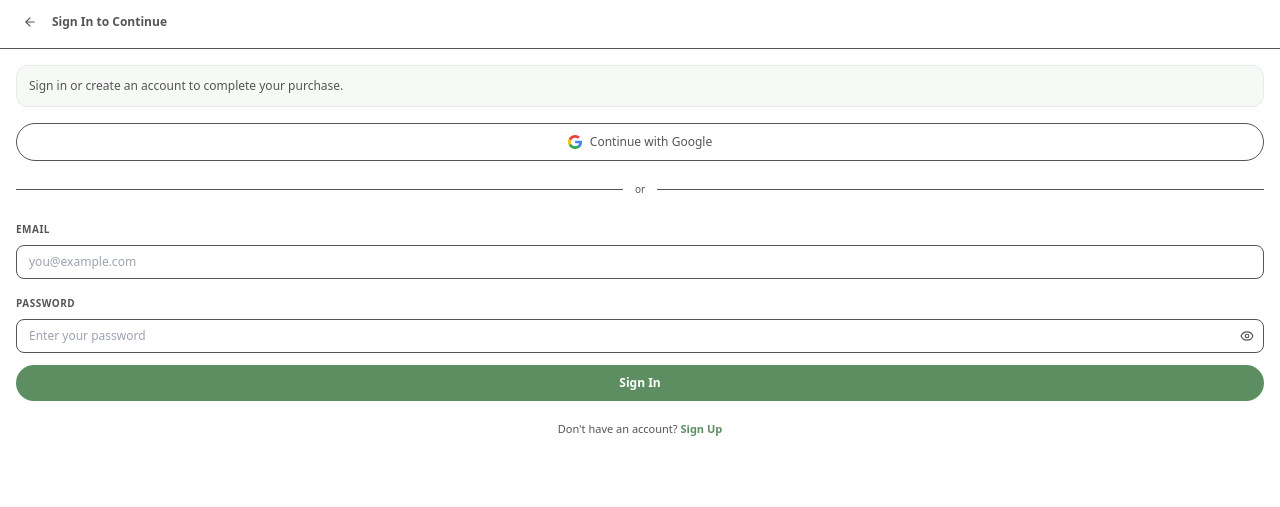
Scenario: ChatAuth › Sign In Mode › shows error on failed sign in
In the field with placeholder "you@example.com": {"x": 640, "y": 262} [16, 245, 1264, 279], type "test@test.com"
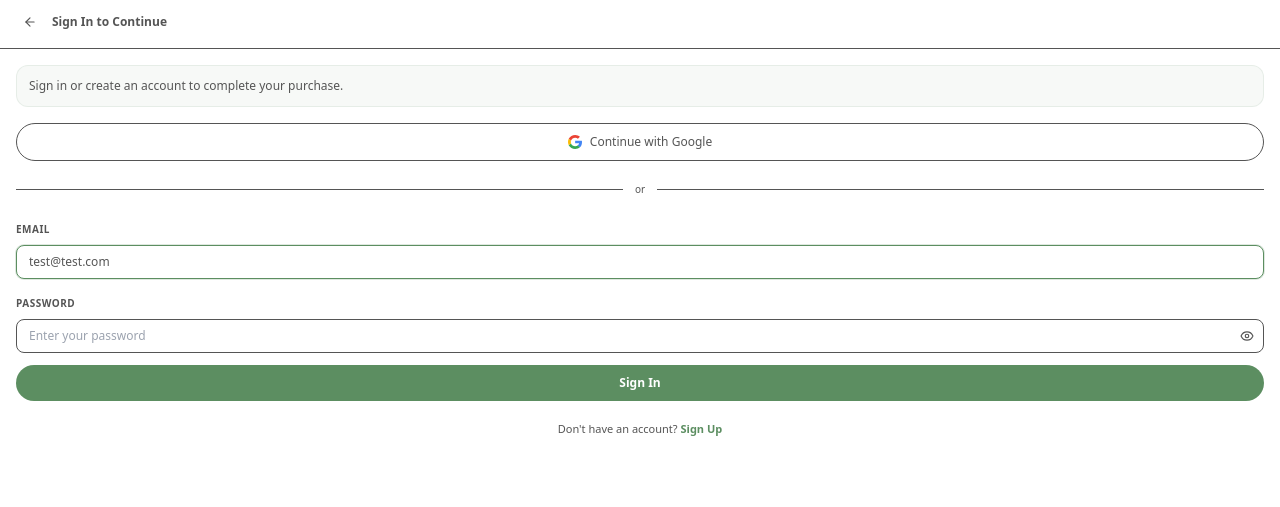
In the password field with placeholder "Enter your password": {"x": 640, "y": 336} [16, 319, 1264, 353], type "wrongpass"
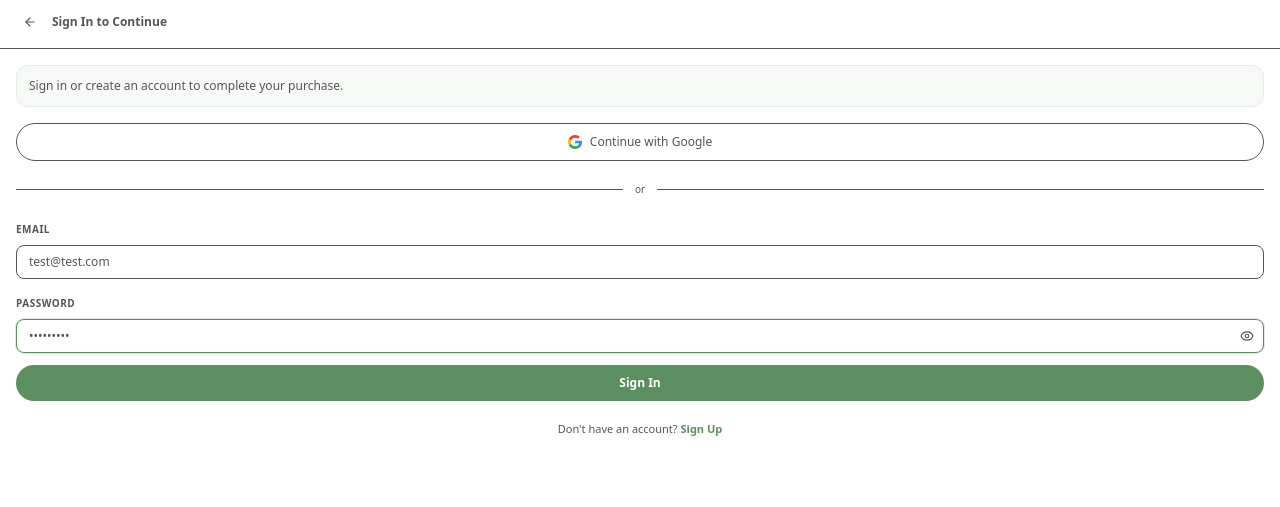
Click the button "Sign In": {"x": 640, "y": 383} [16, 365, 1264, 401]
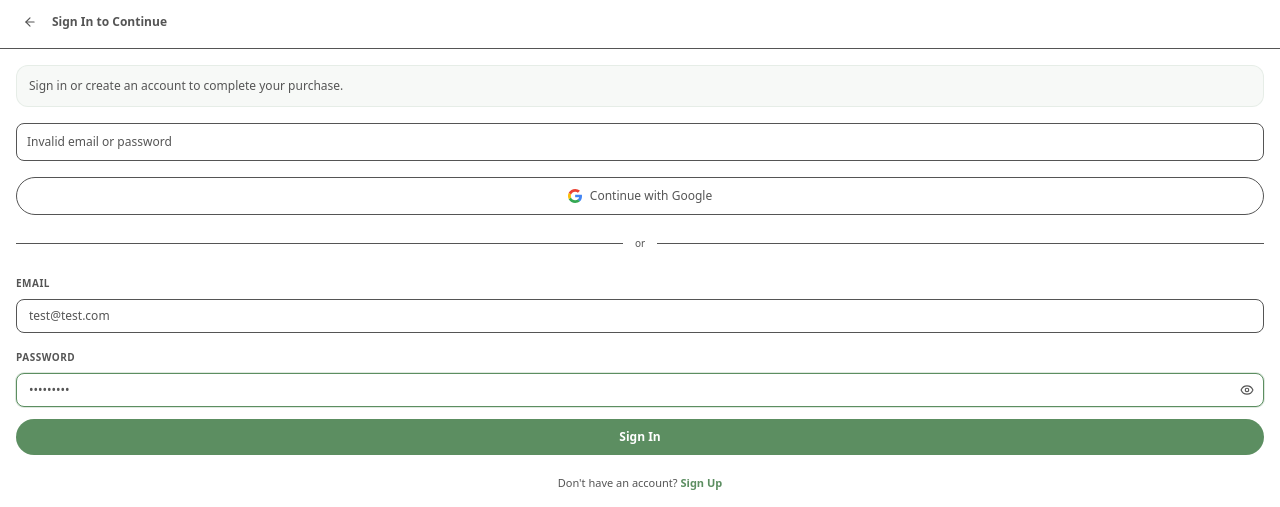
Check: the text "Invalid email or password" is shown, box [27, 133, 172, 150]
